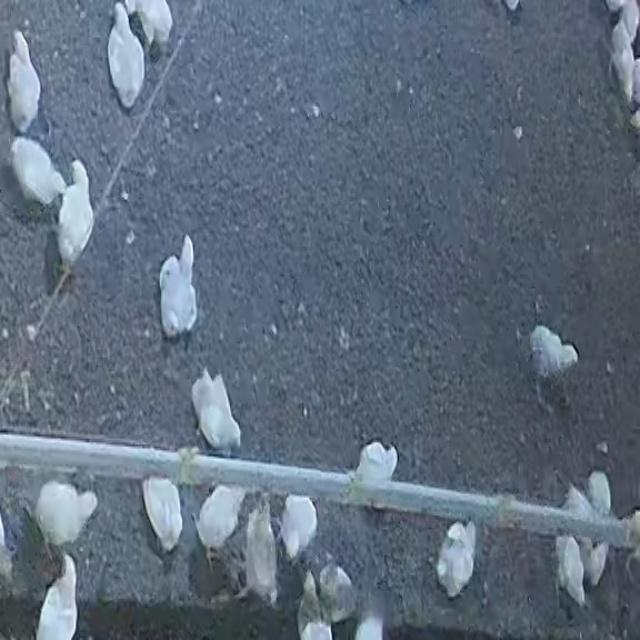chicken: (31, 478, 105, 560), (232, 492, 282, 606), (54, 153, 98, 279), (187, 362, 246, 452), (155, 232, 202, 336), (9, 135, 67, 212), (195, 484, 246, 568), (524, 320, 579, 389), (34, 553, 78, 639), (7, 30, 42, 131), (141, 476, 185, 554), (435, 520, 477, 598), (296, 570, 332, 640), (280, 495, 318, 561), (554, 534, 586, 608), (318, 563, 355, 625)
